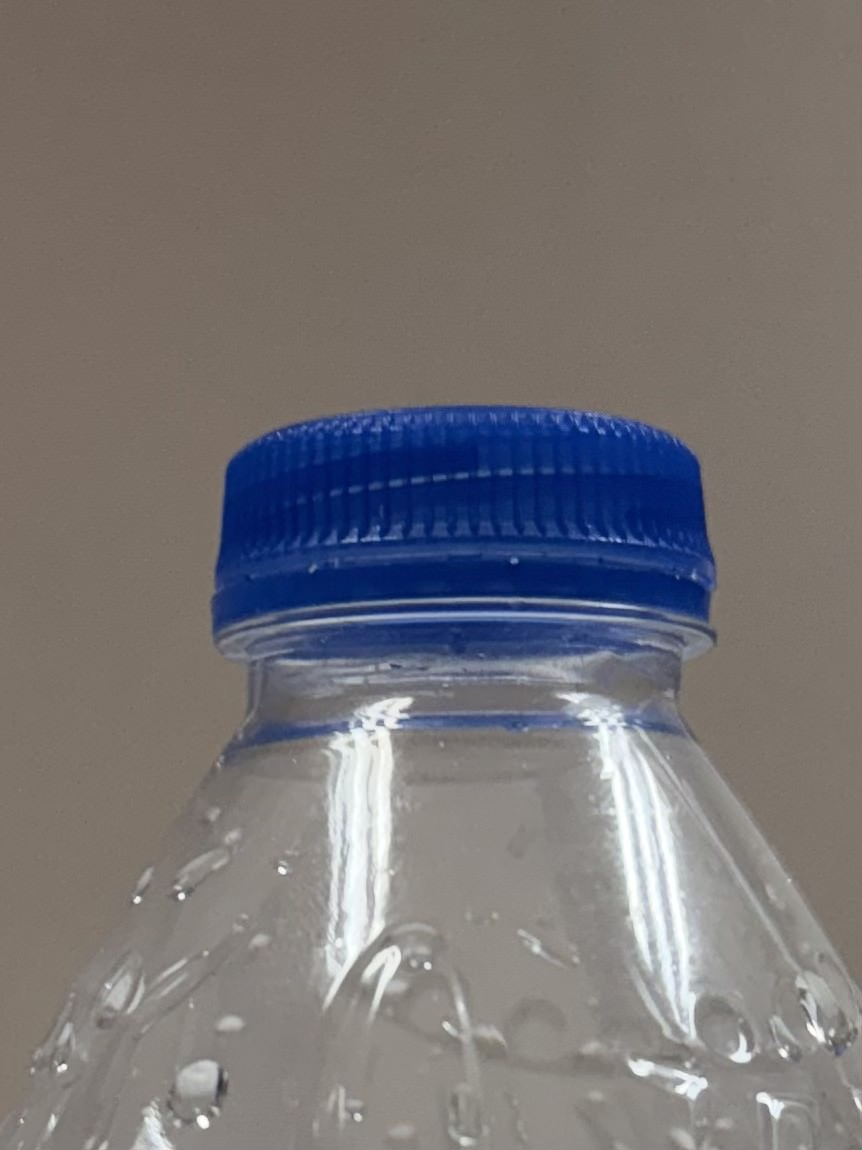closed_cap: (208, 399, 722, 661)
